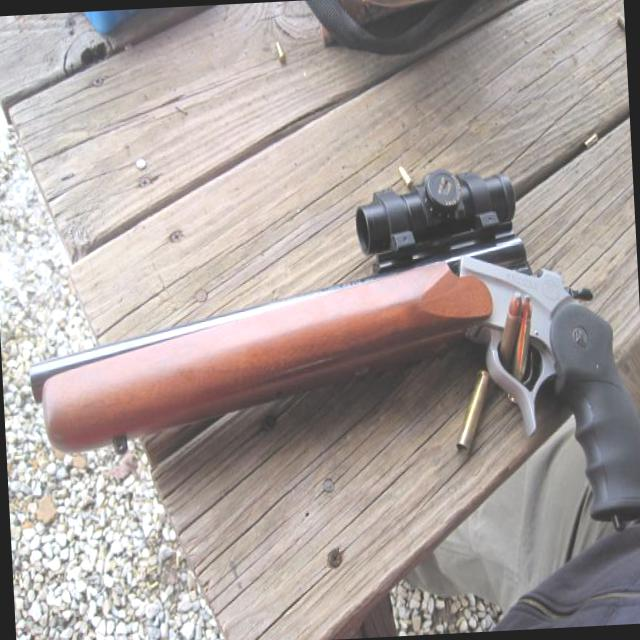handgun: (20, 176, 639, 560)
